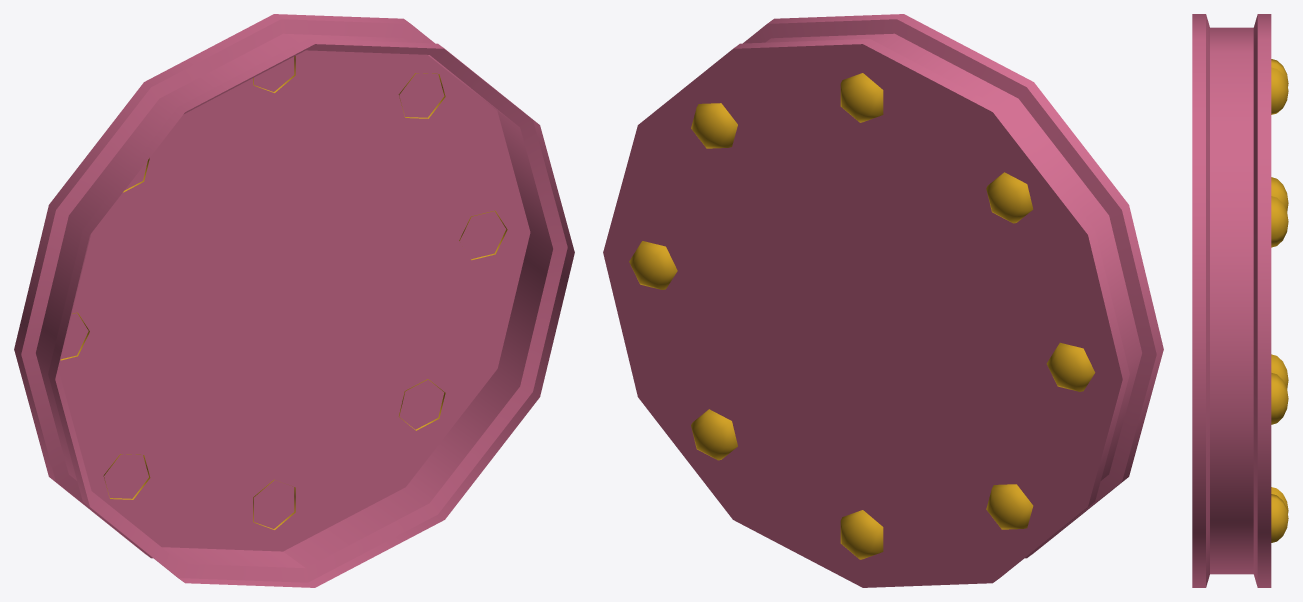
The model's file is untitle11d.fbx.
3 renders of one model, left to right at view 1: azimuth 30°, elevation 25°; view 2: azimuth 150°, elevation 25°; view 3: azimuth 270°, elevation 25°, orthographic. The views are drawn at different scales.
Parts seen in each view (by area): view 1: Cylinder.001; view 2: Cylinder.001; view 3: Cylinder.001.
Boxes of the visible parts, x1,y1,x2,y2 form: Cylinder.001: [14, 14, 574, 587]; Cylinder.001: [603, 14, 1163, 587]; Cylinder.001: [1192, 14, 1288, 587].
Size of the model in its own units: 200 by 200 by 33.37.
